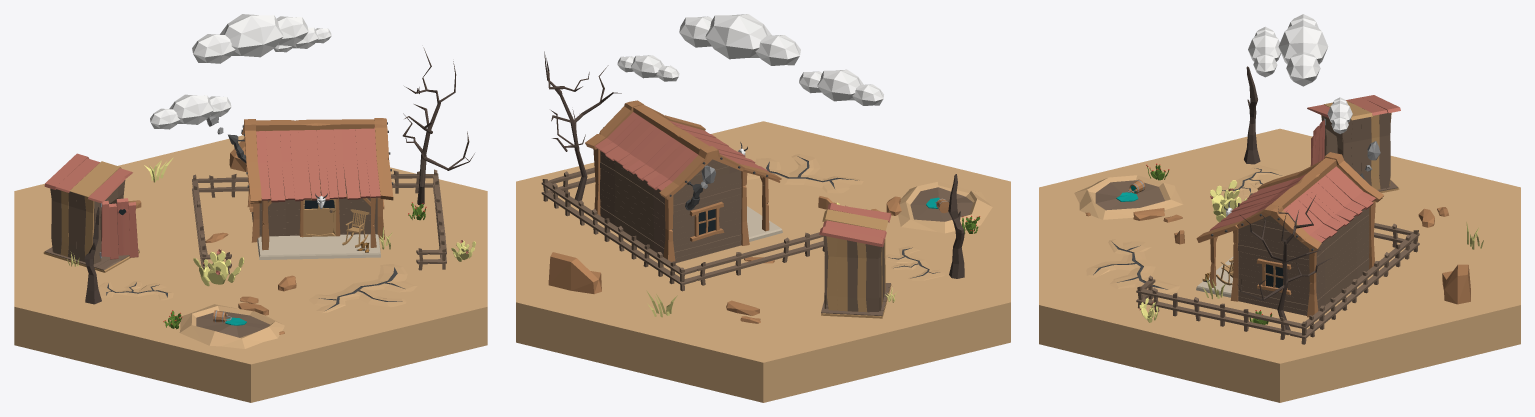
Rendered from Tile_8.fbx.
3 renders of one model, left to right at view 1: azimuth 30°, elevation 25°; view 2: azimuth 150°, elevation 25°; view 3: azimuth 270°, elevation 25°, orthographic. The views are drawn at different scales.
Parts seen in each view (by area): view 1: Tile_8_Base, Tile_8_Building, Tile_8, Tile_8_Building_Toilet, Tile_8_Puddle, Tile_8_Fence, Tile_8_Cactus, Tile_8_Dead_Tree, Tile_8_Chair; view 2: Tile_8_Base, Tile_8_Building, Tile_8, Tile_8_Building_Toilet, Tile_8_Fence, Tile_8_Puddle, Tile_8_Dead_Tree; view 3: Tile_8_Base, Tile_8_Building, Tile_8, Tile_8_Fence, Tile_8_Building_Toilet, Tile_8_Puddle, Tile_8_Dead_Tree, Tile_8_Cactus.
Boxes of the visible parts, x1,y1,x2,y2 form: Tile_8_Base: [14, 135, 487, 402]; Tile_8_Building: [228, 118, 393, 259]; Tile_8: [67, 14, 474, 334]; Tile_8_Building_Toilet: [43, 153, 139, 272]; Tile_8_Puddle: [179, 304, 284, 348]; Tile_8_Fence: [192, 169, 446, 274]; Tile_8_Cactus: [193, 249, 244, 286]; Tile_8_Dead_Tree: [84, 207, 101, 304]; Tile_8_Chair: [342, 209, 369, 247]; Tile_8_Base: [516, 121, 1010, 402]; Tile_8_Building: [585, 100, 782, 262]; Tile_8: [544, 14, 980, 323]; Tile_8_Building_Toilet: [819, 203, 891, 318]; Tile_8_Fence: [541, 167, 824, 291]; Tile_8_Puddle: [898, 182, 992, 233]; Tile_8_Dead_Tree: [948, 174, 964, 278]; Tile_8_Base: [1039, 128, 1520, 402]; Tile_8_Building: [1196, 152, 1384, 317]; Tile_8: [1085, 14, 1483, 330]; Tile_8_Fence: [1136, 193, 1419, 344]; Tile_8_Building_Toilet: [1307, 95, 1400, 192]; Tile_8_Puddle: [1074, 175, 1183, 219]; Tile_8_Dead_Tree: [1244, 66, 1260, 164]; Tile_8_Cactus: [1210, 180, 1246, 222].
Bounding box in the file's own units: 2318 × 2007 × 1218.
